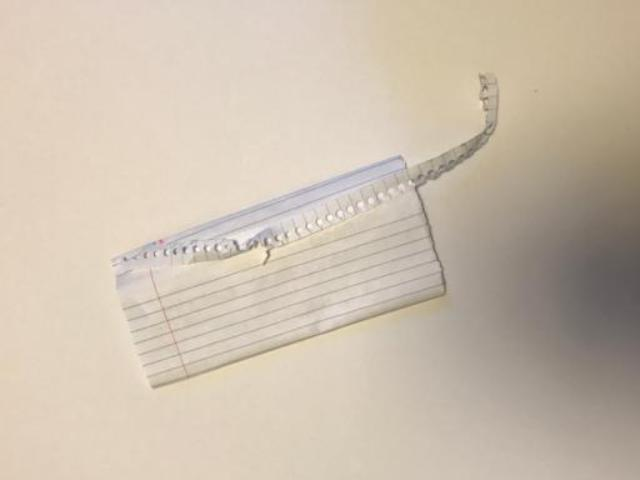cardboard paper: (112, 155, 442, 384)
